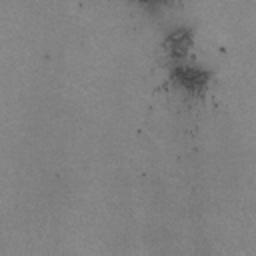Iron sheet ash: (169, 64, 209, 93), (163, 27, 193, 58)
